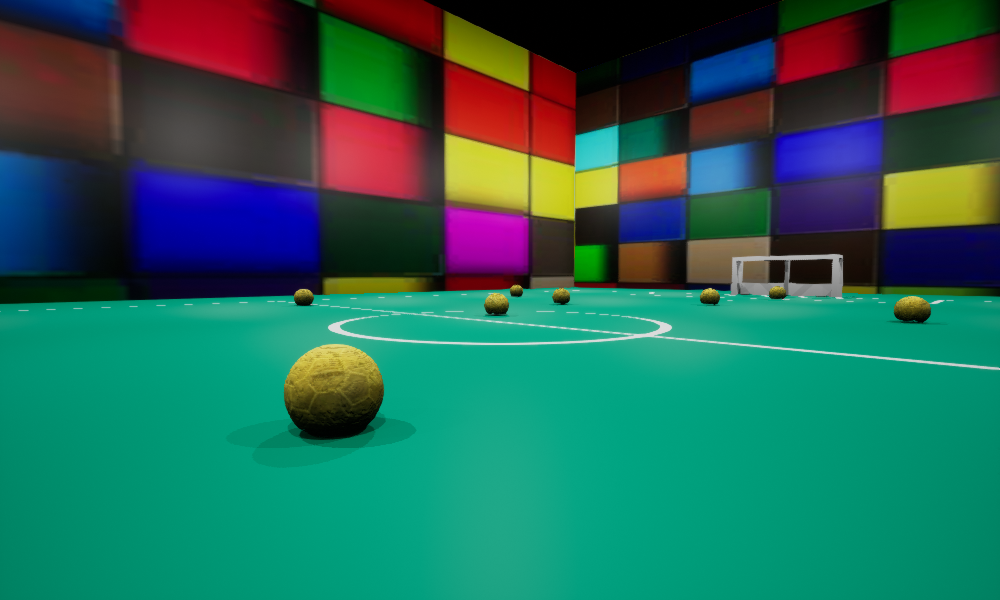b: (284, 344, 383, 436), (894, 296, 930, 322), (484, 293, 508, 313), (294, 289, 313, 305), (700, 288, 719, 304), (552, 288, 569, 303), (769, 286, 785, 298), (510, 285, 522, 296)
g: (731, 254, 842, 296)
